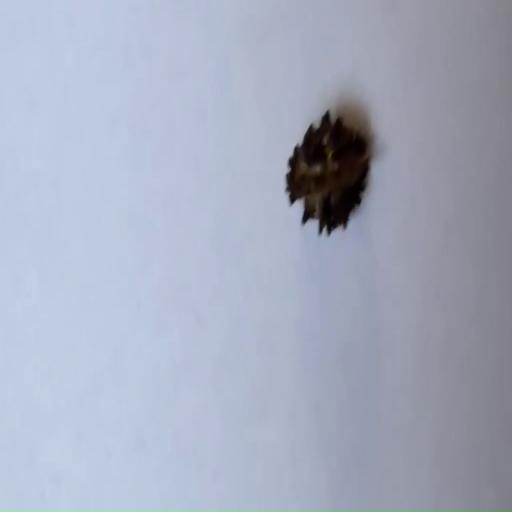papaya_seed: (272, 92, 382, 258)
